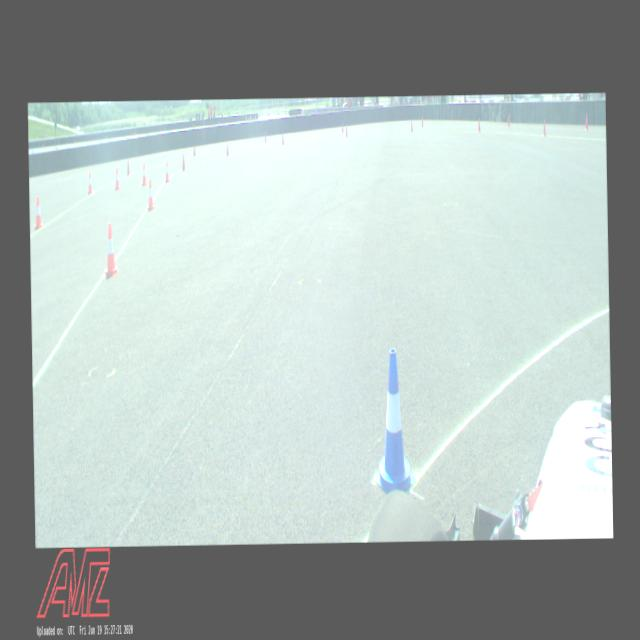blue_cone: (371, 348, 416, 494)
orange_cone: (103, 222, 118, 276), (33, 196, 43, 230), (146, 178, 154, 210), (87, 171, 93, 195), (114, 167, 120, 190), (164, 160, 170, 182), (141, 163, 146, 185)
unknown_cone: (476, 116, 481, 132), (126, 158, 130, 176), (584, 114, 588, 130), (542, 120, 546, 136), (344, 124, 348, 137), (181, 154, 184, 170), (226, 141, 229, 157), (506, 112, 509, 127), (420, 115, 423, 128), (410, 120, 413, 132), (264, 131, 267, 143), (192, 144, 195, 156), (281, 134, 284, 145), (341, 122, 343, 133)
